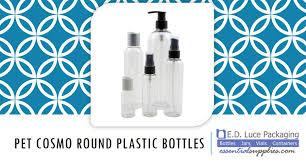Container for household chemicals: (104, 8, 195, 121)
